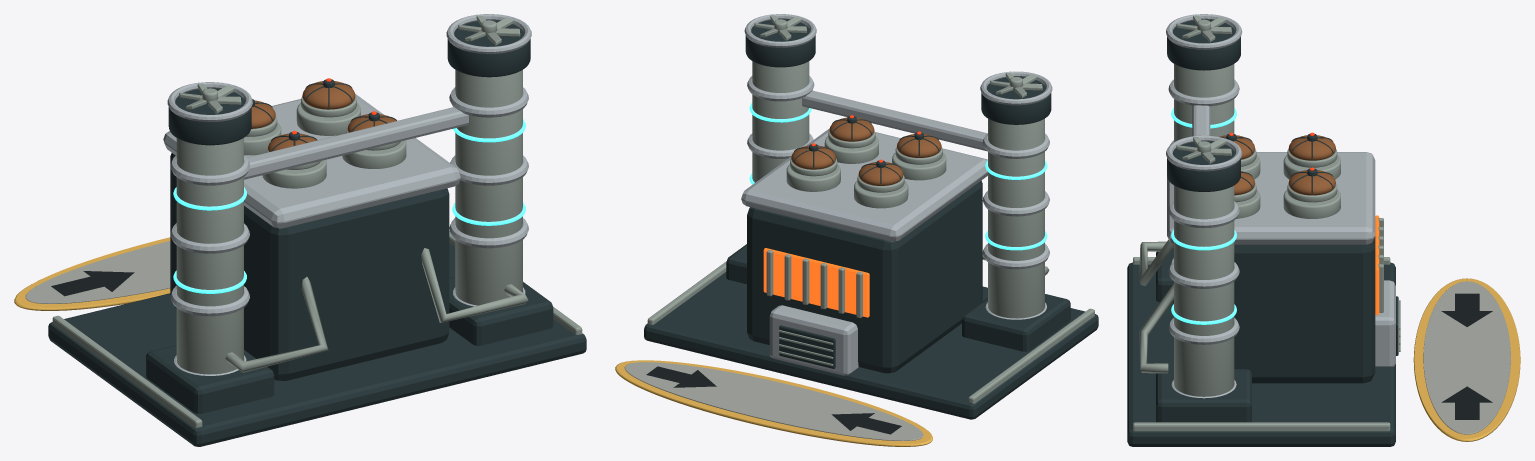
The model's file is battlecity-mine-factory.glb.
3 renders of one model, left to right at view 1: azimuth 30°, elevation 25°; view 2: azimuth 150°, elevation 25°; view 3: azimuth 270°, elevation 25°, orthographic. The views are drawn at different scales.
Visible parts, largest first — view 1: DX dark machinery, Brushed steel, DX chrome, Pale stone apron, DX mine copper shell, Command gold, Command glow, Lettering charcoal, Brushed steel Factory intake turbine 1, Brushed steel Factory intake turbine -1; view 2: DX dark machinery, Brushed steel, DX chrome, Pale stone apron, Command gold, Factory furnace glow, DX mine copper shell, Lettering charcoal, Command glow, Brushed steel Factory intake turbine 1, Brushed steel Factory intake turbine -1; view 3: DX dark machinery, Brushed steel, DX chrome, Pale stone apron, Command gold, DX mine copper shell, Lettering charcoal, Command glow, Brushed steel Factory intake turbine 1, Brushed steel Factory intake turbine -1, Factory furnace glow.
Part boxes in pixels (box(x1,y1,x2,y2)): DX dark machinery: box(48, 20, 586, 446); Brushed steel: box(52, 70, 582, 428); DX chrome: box(163, 14, 531, 375); Pale stone apron: box(25, 241, 170, 303); DX mine copper shell: box(251, 81, 396, 151); Command gold: box(14, 237, 170, 310); Command glow: box(173, 119, 525, 293); Lettering charcoal: box(51, 271, 134, 296); Brushed steel Factory intake turbine 1: box(458, 15, 520, 45); Brushed steel Factory intake turbine -1: box(179, 83, 241, 113); DX dark machinery: box(644, 19, 1098, 419); Brushed steel: box(647, 61, 1094, 403); DX chrome: box(741, 14, 1052, 375); Pale stone apron: box(624, 362, 923, 440); Command gold: box(615, 360, 932, 446); Factory furnace glow: box(763, 248, 869, 317); DX mine copper shell: box(791, 117, 941, 185); Lettering charcoal: box(646, 366, 901, 434); Command glow: box(749, 103, 1047, 250); Brushed steel Factory intake turbine 1: box(754, 15, 806, 40); Brushed steel Factory intake turbine -1: box(990, 73, 1042, 98); DX dark machinery: box(1127, 19, 1398, 446); Brushed steel: box(1133, 64, 1400, 431); DX chrome: box(1166, 14, 1395, 398); Pale stone apron: box(1423, 281, 1510, 434); Command gold: box(1413, 278, 1520, 441); DX mine copper shell: box(1219, 135, 1335, 195); Lettering charcoal: box(1441, 293, 1492, 419); Command glow: box(1171, 108, 1236, 324); Brushed steel Factory intake turbine 1: box(1176, 137, 1231, 163); Brushed steel Factory intake turbine -1: box(1176, 15, 1231, 42); Factory furnace glow: box(1375, 215, 1379, 315).
Size of the model in its own units: 2.96 by 2.26 by 2.87.
